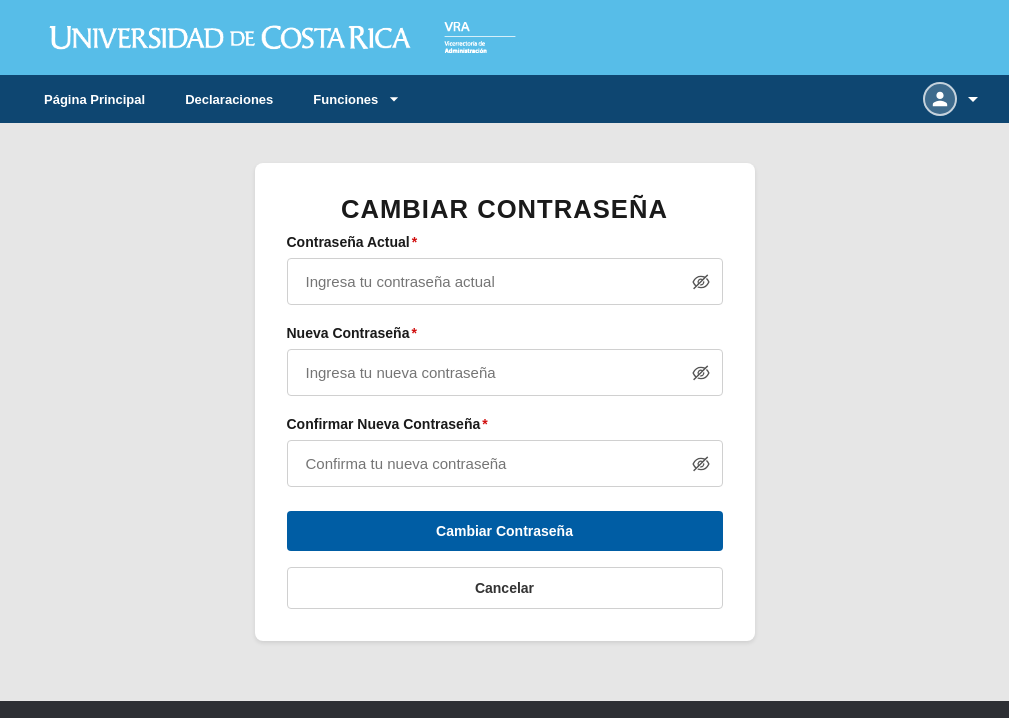
Test: ChangePassword Page › muestra error cuando nueva contraseña no cumple requisitos de complejidad
Type "OldPass1!@" into the password field with placeholder "Ingresa tu contraseña actual" at (504, 282), box [286,258,722,305]
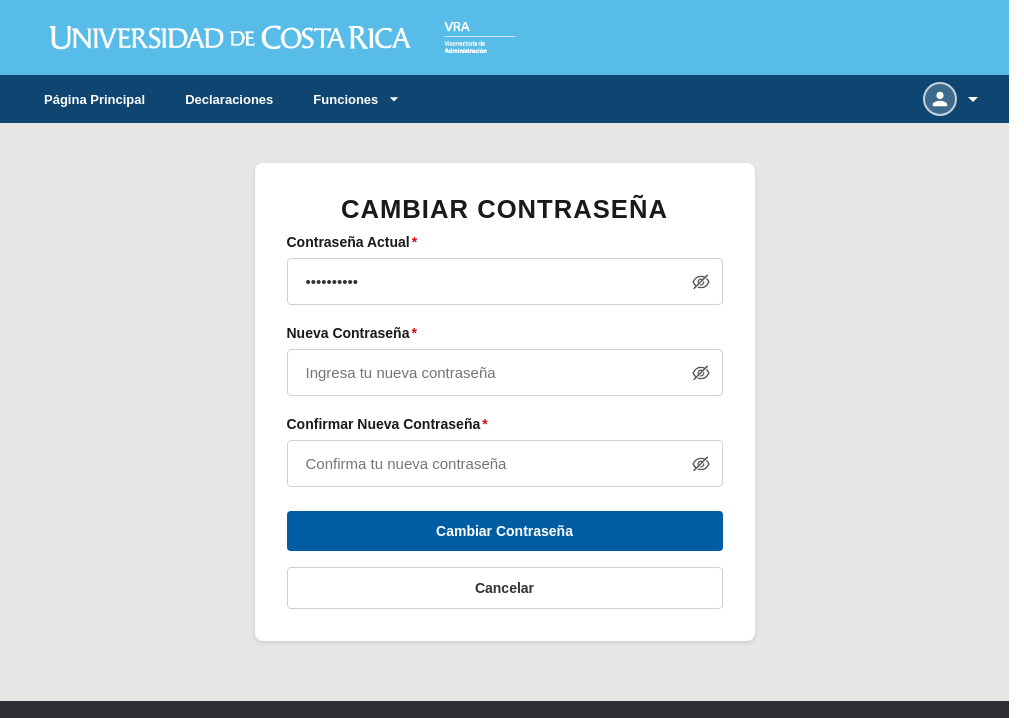
Type "simple" into the password field with placeholder "Ingresa tu nueva contraseña" at (504, 372), box [286,349,722,396]
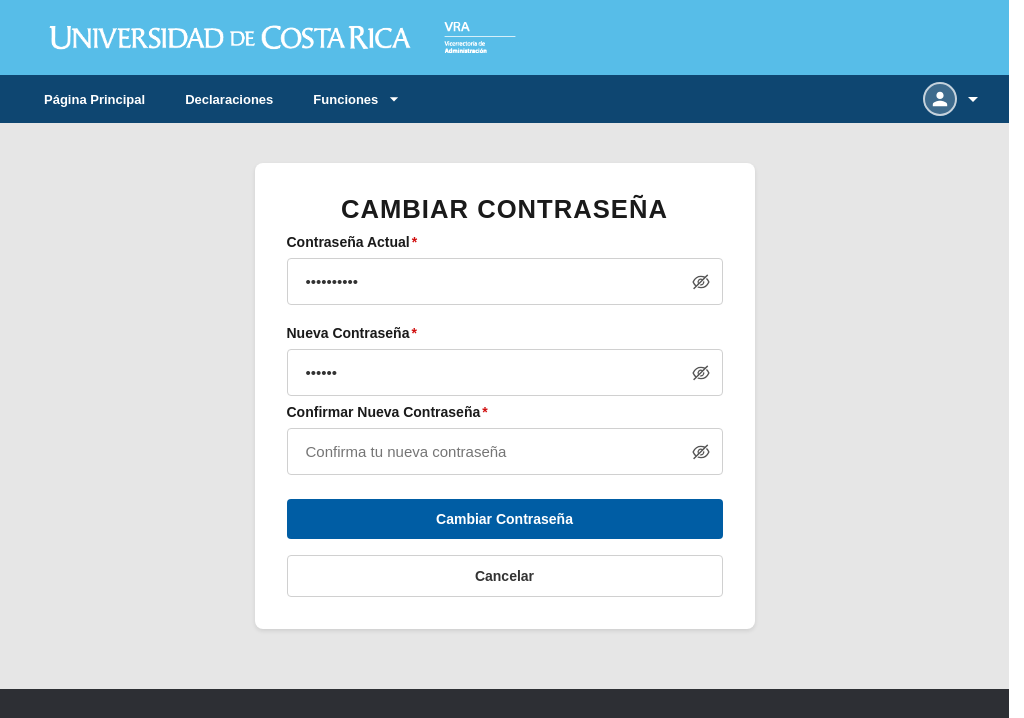
Type "simple" into the password field with placeholder "Confirma tu nueva contraseña" at (504, 452), box [286,428,722,475]
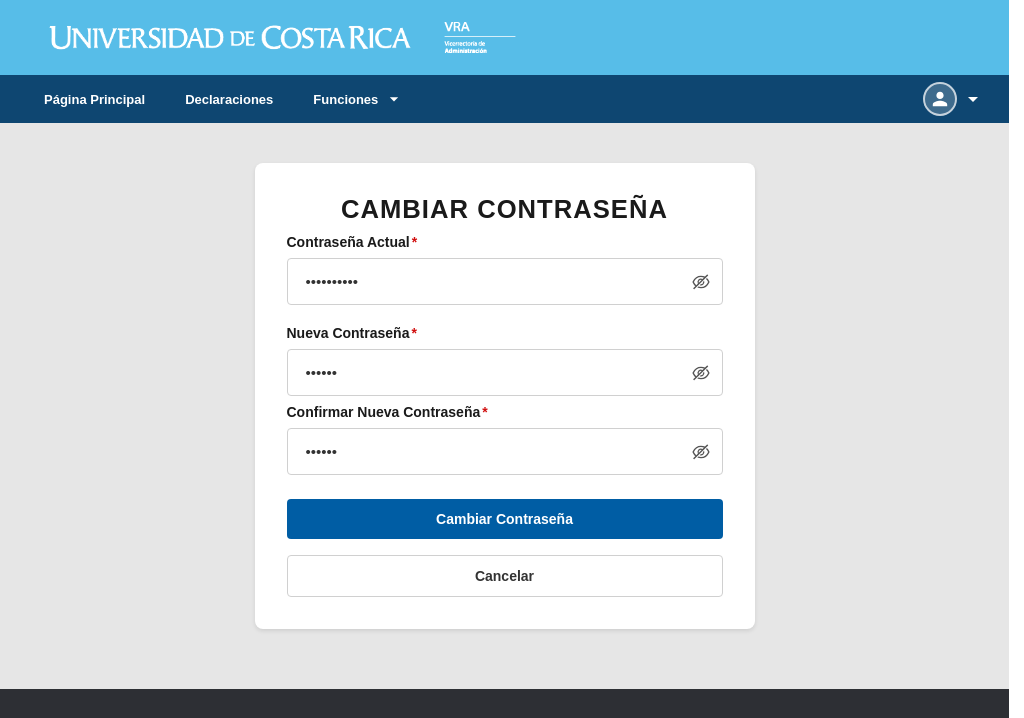
Submit the form, box [254,163,754,629]
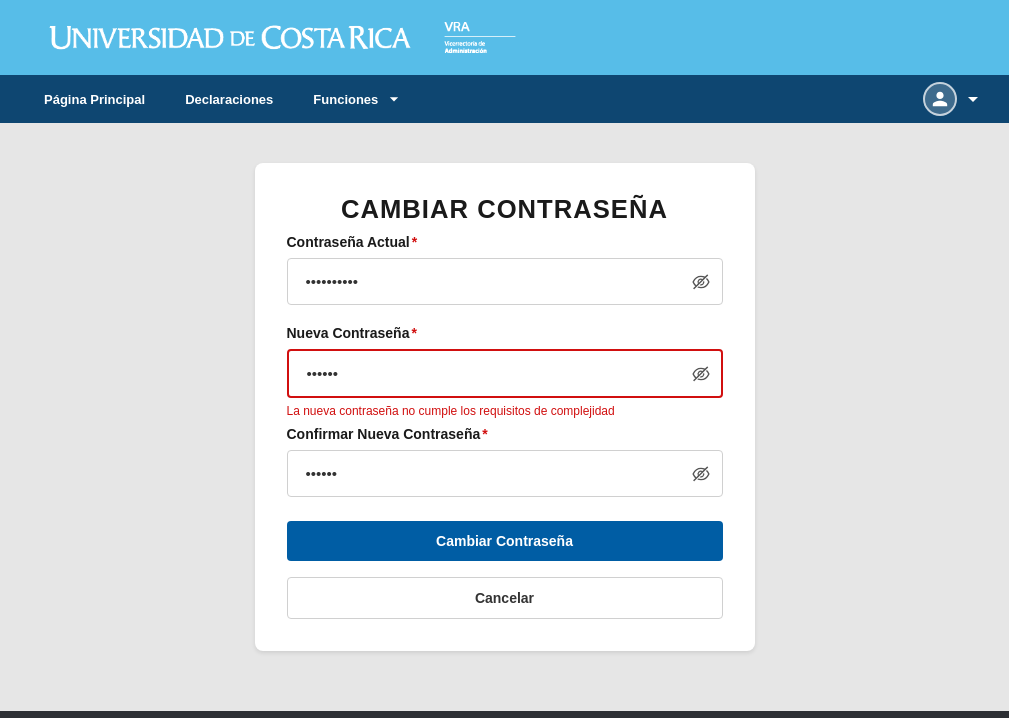
expect the text "La nueva contraseña no cumple los requisitos de complejidad" is shown: met, box [286,404,615,418]
